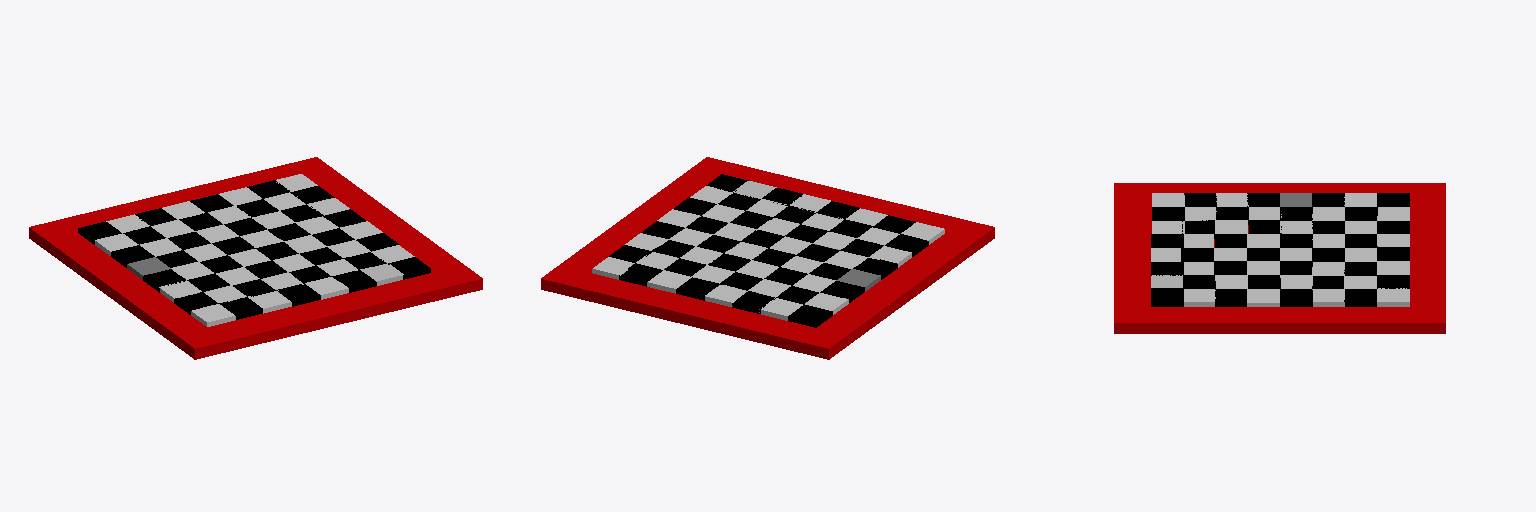
The model's file is chessboard.obj.
3 views of the same model, side by side, from view 1: azimuth 30°, elevation 25°; view 2: azimuth 150°, elevation 25°; view 3: azimuth 270°, elevation 25° (orthographic).
Visible parts, largest first — view 1: Cube, Plane.051_0, Plane.002_0, Plane.050_0, Plane.052_0, Plane.046_0, Plane.043_0, Plane.059_0, Plane.060_0, Plane.070_0, Plane.073_0, Plane.047_0 (+1 smaller); view 2: Cube, Plane.070_0, Plane.071_0, Plane.066_0, Plane.064_0, Plane.068_0, Plane.067_0, Plane.069_0, Plane.065_0, Plane.047_0, Plane.073_0, Plane.032_0; view 3: Cube, Plane.060_0, Plane.065_0, Plane.027_0, Plane.003_0, Plane.062_0, Plane.022_0, Plane.028_0, Plane.061_0.
Part boxes in pixels (x1,y1,x2,y2): Cube: (29,157,482,359); Plane.051_0: (191,304,235,326); Plane.002_0: (276,284,320,306); Plane.050_0: (332,270,376,292); Plane.052_0: (305,277,348,299); Plane.046_0: (219,297,262,319); Plane.043_0: (248,291,291,313); Plane.059_0: (360,264,403,285); Plane.060_0: (388,257,430,279); Plane.070_0: (78,221,121,244); Plane.073_0: (111,245,154,267); Plane.047_0: (174,292,218,314); Cube: (541,157,994,359); Plane.070_0: (788,304,832,327); Plane.071_0: (647,270,691,293); Plane.066_0: (676,277,720,300); Plane.064_0: (619,263,662,286); Plane.068_0: (732,291,775,313); Plane.067_0: (705,285,747,306); Plane.069_0: (759,298,802,320); Plane.065_0: (592,257,634,279); Plane.047_0: (885,234,928,256); Plane.073_0: (820,281,864,302); Plane.032_0: (836,269,880,291); Cube: (1114,183,1445,333); Plane.060_0: (1151,288,1183,306); Plane.065_0: (1377,288,1409,306); Plane.027_0: (1247,289,1279,306); Plane.003_0: (1280,289,1312,306); Plane.062_0: (1344,289,1376,306); Plane.022_0: (1312,289,1344,306); Plane.028_0: (1215,289,1246,306); Plane.061_0: (1184,289,1215,306).
Bounding box in the file's own units: 8.43 × 0.4389 × 8.43.